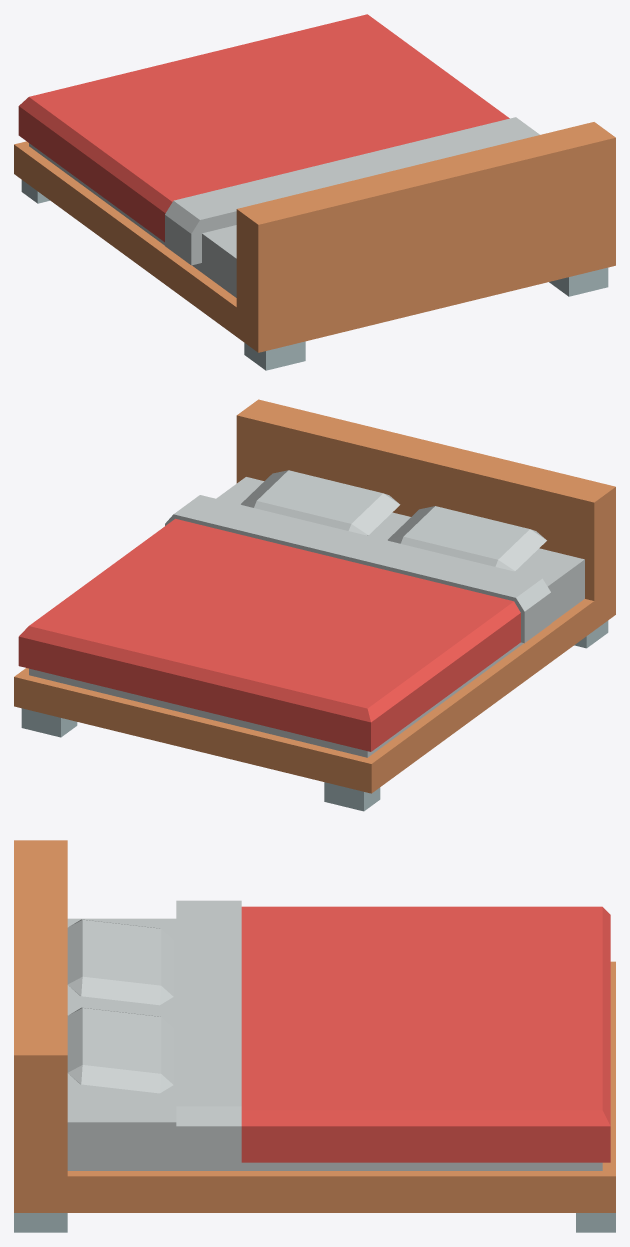
The model's file is beddouble.gltf.
3 views of the same model, one above another, from view 1: azimuth 30°, elevation 25°; view 2: azimuth 150°, elevation 25°; view 3: azimuth 270°, elevation 25° (orthographic). The views are drawn at different scales.
Visible parts, largest first — view 1: beddouble; view 2: beddouble; view 3: beddouble.
Boxes of the visible parts, box(x1,y1,x2,y2) form: beddouble: box(14, 14, 615, 370); beddouble: box(14, 399, 615, 811); beddouble: box(14, 840, 615, 1232).
Bounding box in the file's own units: 0.956 × 0.375 × 1.12.
1 material, 1 textured.
